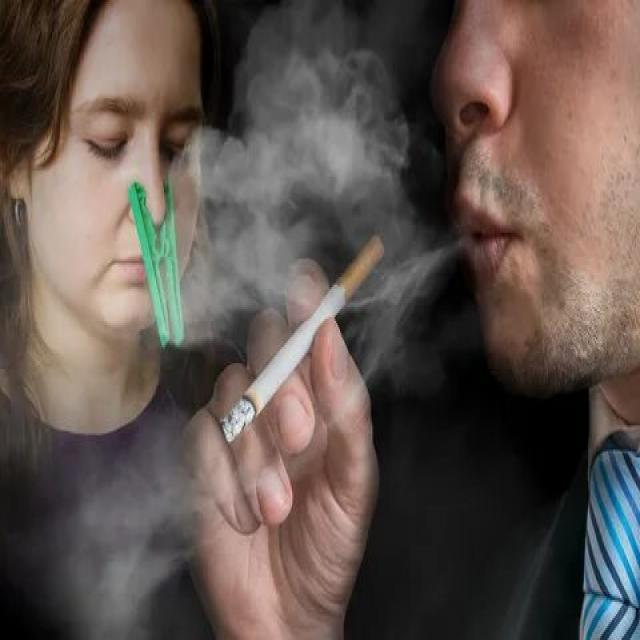smoke: (220, 233, 385, 445)
